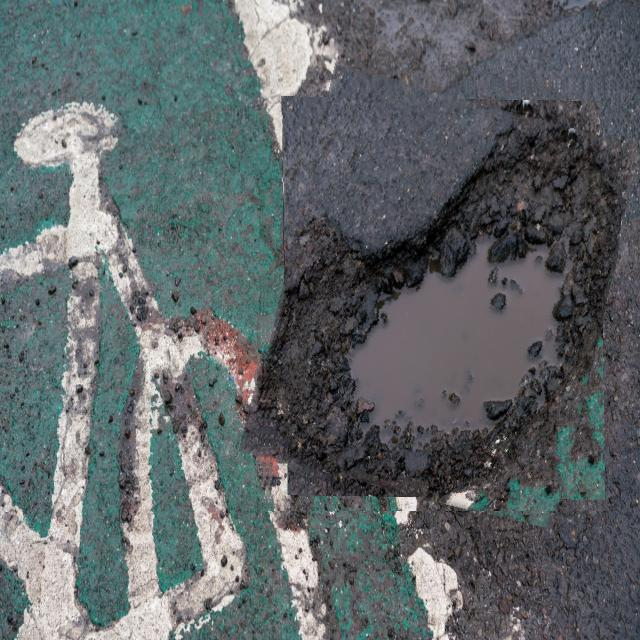Pothole: (260, 80, 621, 511)
